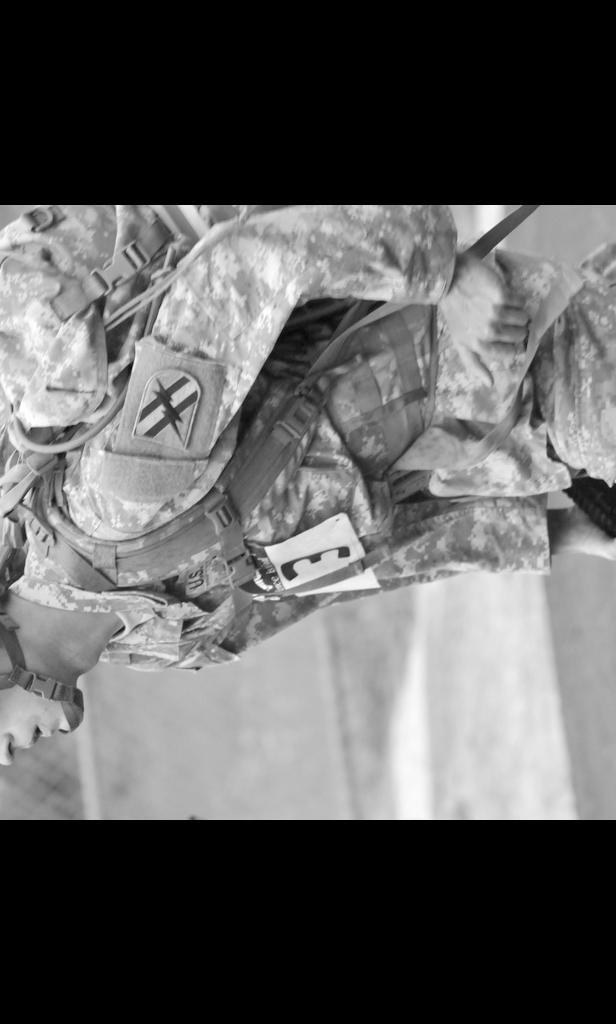gun: (561, 465, 616, 708)
